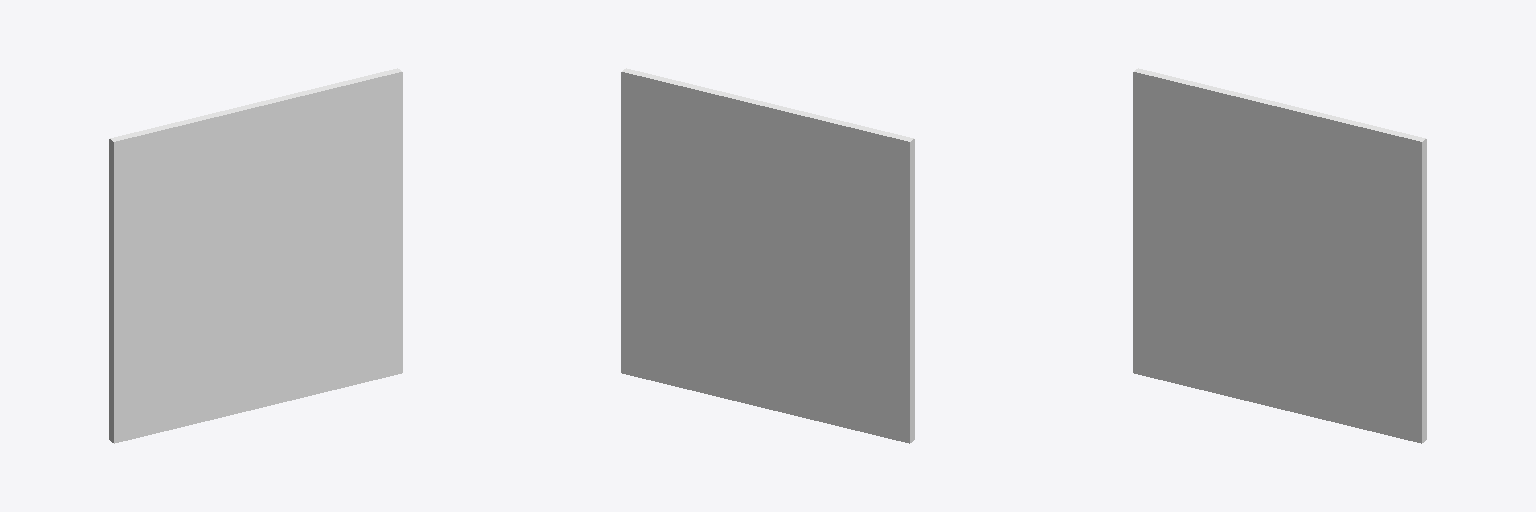
Rendered from fenetre-4.obj.
The picture shows the model from 3 angles: view 1: azimuth 30°, elevation 25°; view 2: azimuth 150°, elevation 25°; view 3: azimuth 330°, elevation 25°; orthographic projection.
Parts seen in each view (by area): view 1: object 1; view 2: object 1; view 3: object 1.
Part boxes in pixels (x1,y1,x2,y2): object 1: (109,68,402,443); object 1: (621,68,914,443); object 1: (1133,68,1426,443).
Bounding box in the file's own units: 3.6 × 3.6 × 0.1.